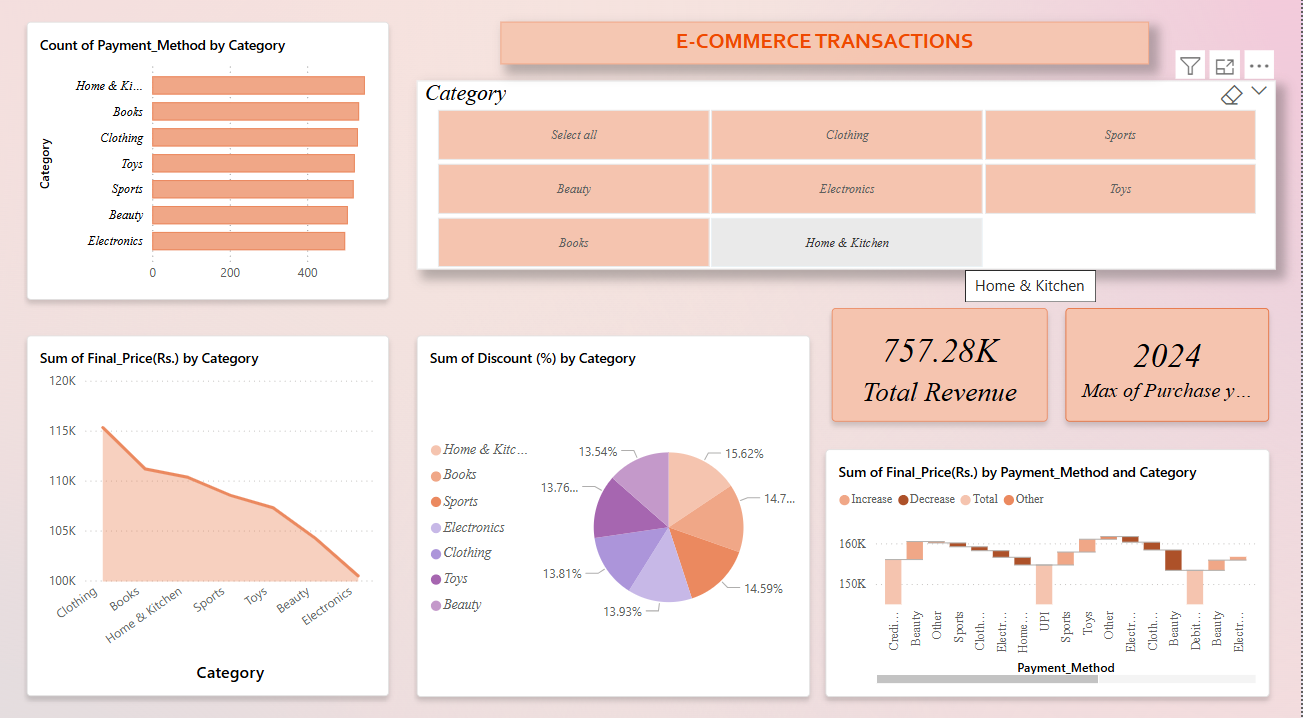

Layout of this report page (visuals, bound fields, positions):
{"tool":"powerbi","page":{"name":"Page 1","canvas":[1280,720],"ordinal":0},"visuals":[{"type":"clusteredBarChart","fields":{"Y":["CountNonNull(ecommerce_dataset_updated.Payment_Method)"],"Category":["ecommerce_dataset_updated.Category"]},"box":[32.9,23.3,354,271.7],"z":0},{"type":"slicer","fields":{"Values":["ecommerce_dataset_updated.Category"]},"box":[414.5,80.7,840.1,184.6],"z":1000},{"type":"areaChart","fields":{"Category":["ecommerce_dataset_updated.Category"],"Y":["Sum(ecommerce_dataset_updated.Final_Price(Rs.))"]},"box":[32.9,330.7,354,352.7],"z":2000},{"type":"pieChart","fields":{"Category":["ecommerce_dataset_updated.Category"],"Y":["Sum(ecommerce_dataset_updated.Discount (%))"]},"box":[414.5,330.2,385.2,353.4],"z":3000},{"type":"card","fields":{"Values":["ecommerce_dataset_updated.Total Revenue"]},"box":[820.5,303.3,211.6,111.3],"z":4000},{"type":"card","fields":{"Values":["Max(ecommerce_dataset_updated.Purchase year)"]},"box":[1049.2,303.3,199.3,111.3],"z":5000},{"type":"waterfallChart","fields":{"Category":["ecommerce_dataset_updated.Payment_Method"],"Breakdown":["ecommerce_dataset_updated.Category"],"Y":["Sum(ecommerce_dataset_updated.Final_Price(Rs.))"]},"box":[814.4,441.4,434.1,242.1],"z":6000},{"type":"textbox","box":[496.5,23.2,634.7,41.6],"z":7000}]}

Visuals, with their boxes in screenshot pixels (x1, y1, x2, y2), scaled from the page's 1280x720 canvas onto the 1303x718 screenshot:
clusteredBarChart - CountNonNull(ecommerce_dataset_updated.Payment_Method) x ecommerce_dataset_updated.Category: Rect(33, 23, 394, 294)
slicer - ecommerce_dataset_updated.Category: Rect(422, 80, 1277, 265)
areaChart - ecommerce_dataset_updated.Category x Sum(ecommerce_dataset_updated.Final_Price(Rs.)): Rect(33, 330, 394, 682)
pieChart - ecommerce_dataset_updated.Category x Sum(ecommerce_dataset_updated.Discount (%)): Rect(422, 329, 814, 682)
card - ecommerce_dataset_updated.Total Revenue: Rect(835, 302, 1051, 413)
card - Max(ecommerce_dataset_updated.Purchase year): Rect(1068, 302, 1271, 413)
waterfallChart - ecommerce_dataset_updated.Payment_Method x ecommerce_dataset_updated.Category: Rect(829, 440, 1271, 682)
textbox: Rect(505, 23, 1152, 65)
